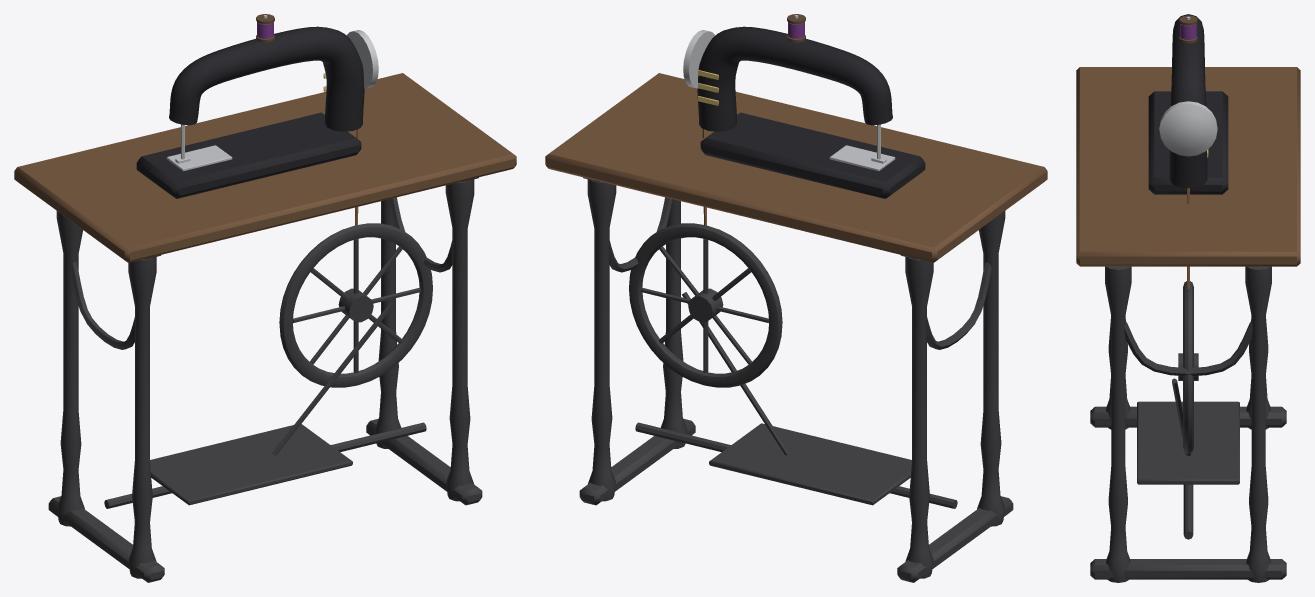
Rendered from gu_macchina_cucire.fbx.
3 renders of one model, left to right at view 1: azimuth 30°, elevation 25°; view 2: azimuth 150°, elevation 25°; view 3: azimuth 270°, elevation 25°, orthographic.
Visible parts, largest first — view 1: gu_macchina_cucire_ferro, gu_macchina_cucire_noce, gu_macchina_cucire_lacca, gu_macchina_cucire_acciaio; view 2: gu_macchina_cucire_ferro, gu_macchina_cucire_noce, gu_macchina_cucire_lacca, gu_macchina_cucire_acciaio; view 3: gu_macchina_cucire_noce, gu_macchina_cucire_ferro, gu_macchina_cucire_lacca, gu_macchina_cucire_acciaio.
Boxes of the visible parts, x1=… form: gu_macchina_cucire_ferro: x1=48, y1=177, x2=482, y2=582; gu_macchina_cucire_noce: x1=14, y1=73, x2=516, y2=262; gu_macchina_cucire_lacca: x1=136, y1=26, x2=364, y2=198; gu_macchina_cucire_acciaio: x1=166, y1=15, x2=378, y2=171; gu_macchina_cucire_ferro: x1=579, y1=177, x2=1013, y2=582; gu_macchina_cucire_noce: x1=545, y1=73, x2=1047, y2=262; gu_macchina_cucire_lacca: x1=697, y1=26, x2=925, y2=198; gu_macchina_cucire_acciaio: x1=683, y1=15, x2=895, y2=171; gu_macchina_cucire_noce: x1=1076, y1=67, x2=1300, y2=266; gu_macchina_cucire_ferro: x1=1090, y1=266, x2=1286, y2=582; gu_macchina_cucire_lacca: x1=1148, y1=14, x2=1228, y2=194; gu_macchina_cucire_acciaio: x1=1159, y1=16, x2=1217, y2=156.
Size of the model in its own units: 0.95 by 1.14 by 0.48.
